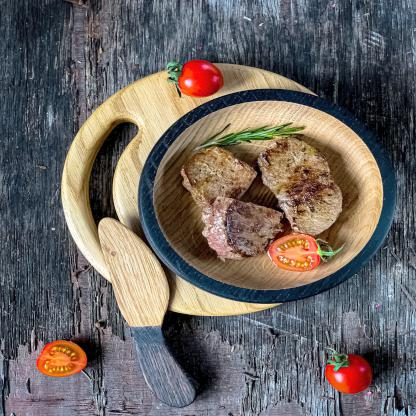Carne: (183, 142, 263, 208), (260, 132, 336, 199), (275, 171, 351, 234), (208, 200, 279, 262)
